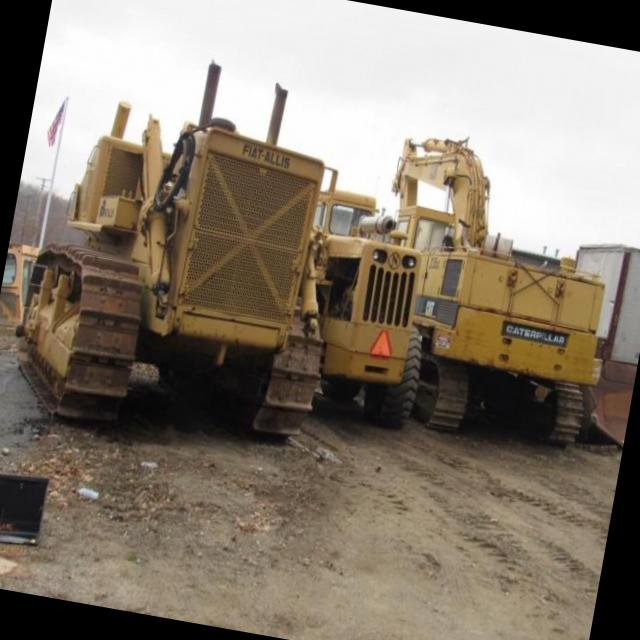Bulldozer: (5, 39, 378, 468)
